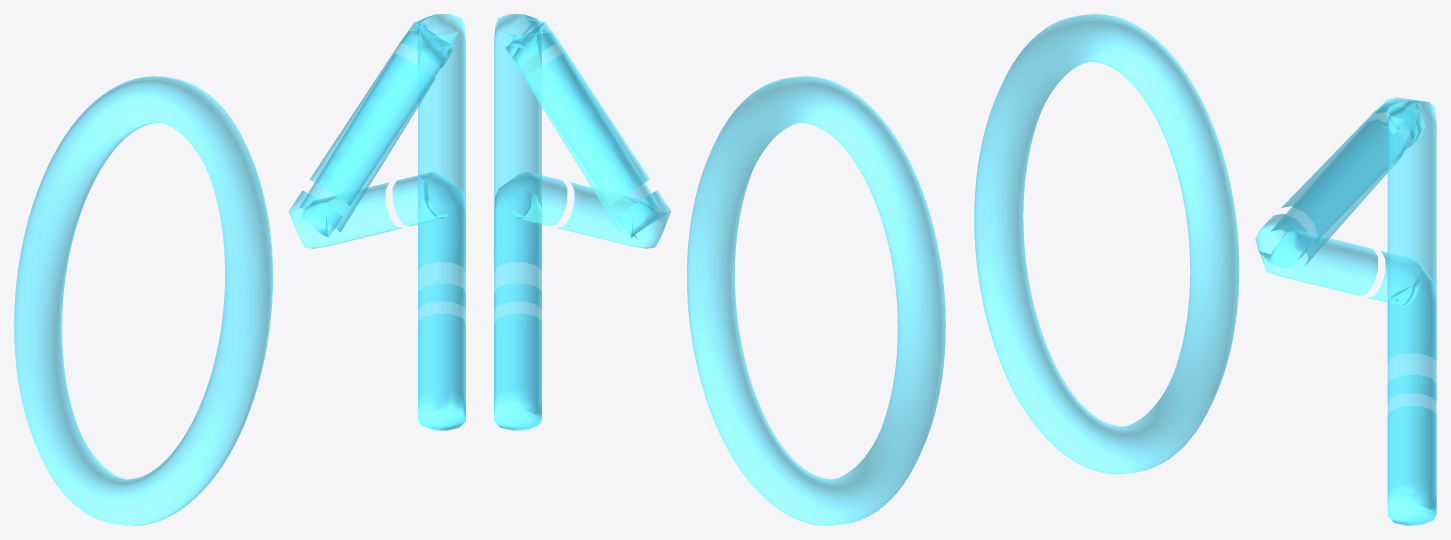
3 renders of one model, left to right at view 1: azimuth 30°, elevation 25°; view 2: azimuth 150°, elevation 25°; view 3: azimuth 330°, elevation 25°, orthographic. The views are drawn at different scales.
Visible parts, largest first — view 1: MorphMesh; view 2: MorphMesh; view 3: MorphMesh.
Boxes of the visible parts, x1=… form: MorphMesh: x1=14, y1=14, x2=465, y2=525; MorphMesh: x1=494, y1=14, x2=945, y2=525; MorphMesh: x1=974, y1=14, x2=1436, y2=525.
Size of the model in its own units: 2.45 by 2.33 by 0.2187.
